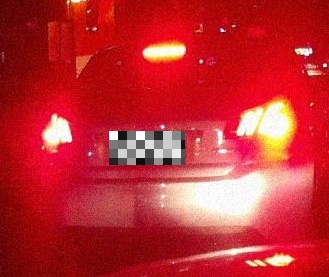L_light: (42, 116, 80, 150)
R_light: (222, 96, 298, 139)
T_light: (142, 44, 185, 57)
night-right: (36, 30, 307, 270)
plate_1: (109, 131, 185, 165)
